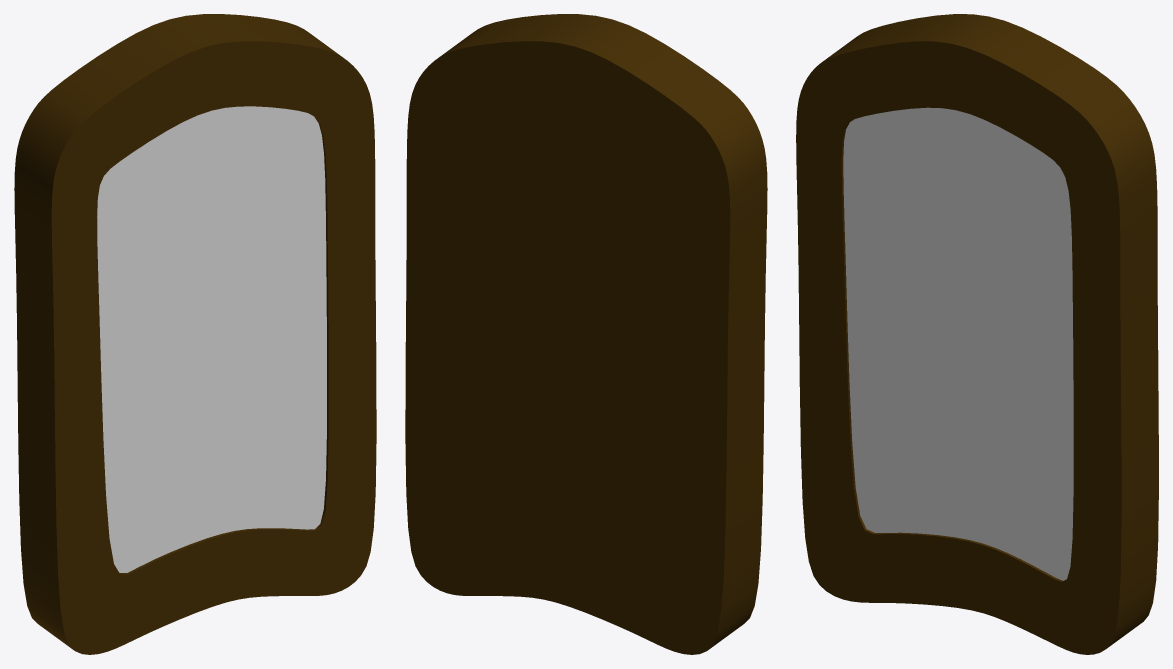
File: pendulum clock.fbx
3 views of the same model, side by side, from view 1: azimuth 30°, elevation 25°; view 2: azimuth 150°, elevation 25°; view 3: azimuth 330°, elevation 25° (orthographic).
Visible parts, largest first — view 1: polySurface1, Body Glass; view 2: polySurface1; view 3: polySurface1, Body Glass.
Part boxes in pixels (left/top/right/bottom): polySurface1: left=14, top=14, right=376, bottom=654; Body Glass: left=97, top=106, right=326, bottom=572; polySurface1: left=405, top=14, right=767, bottom=654; polySurface1: left=796, top=14, right=1158, bottom=654; Body Glass: left=843, top=107, right=1073, bottom=580.
Bounding box in the file's own units: 115 × 197 × 22.82.
